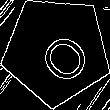O_NW: (23, 17, 89, 84)
